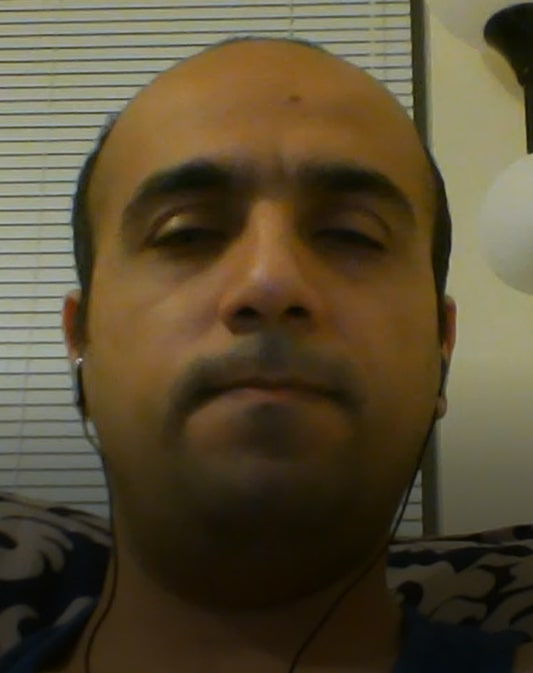Half Asleep: (125, 166, 411, 295)
